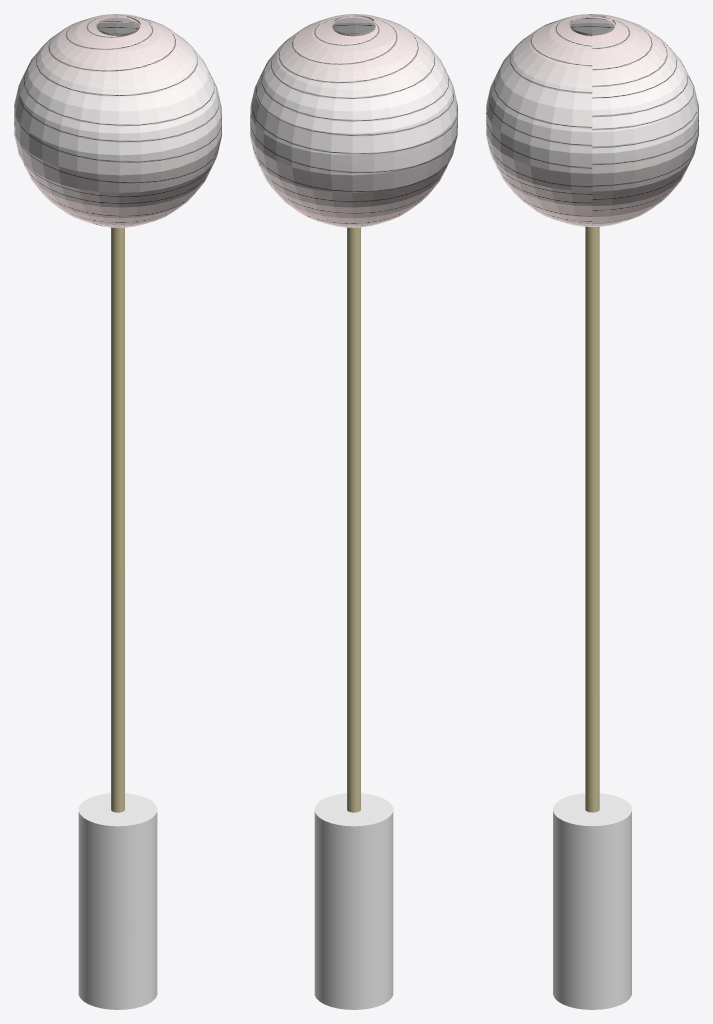
The model's file is floorlamp.glb.
3 renders of one model, left to right at view 1: azimuth 30°, elevation 25°; view 2: azimuth 150°, elevation 25°; view 3: azimuth 270°, elevation 25°, orthographic.
Visible parts, largest first — view 1: Mesh358 Group176 LT_________Noguchi_Floor_Lamp _____ ____59E, Mesh356 Group174 LT_________Noguchi_Floor_Lamp _____ ____59E, Mesh357 Group175 LT_________Noguchi_Floor_Lamp _____ ____59E; view 2: Mesh358 Group176 LT_________Noguchi_Floor_Lamp _____ ____59E, Mesh356 Group174 LT_________Noguchi_Floor_Lamp _____ ____59E, Mesh357 Group175 LT_________Noguchi_Floor_Lamp _____ ____59E; view 3: Mesh358 Group176 LT_________Noguchi_Floor_Lamp _____ ____59E, Mesh356 Group174 LT_________Noguchi_Floor_Lamp _____ ____59E, Mesh357 Group175 LT_________Noguchi_Floor_Lamp _____ ____59E.
Boxes of the visible parts, x1,y1,x2,y2 form: Mesh358 Group176 LT_________Noguchi_Floor_Lamp _____ ____59E: (14,14,221,227); Mesh356 Group174 LT_________Noguchi_Floor_Lamp _____ ____59E: (78,793,157,1009); Mesh357 Group175 LT_________Noguchi_Floor_Lamp _____ ____59E: (111,227,124,812); Mesh358 Group176 LT_________Noguchi_Floor_Lamp _____ ____59E: (250,14,457,227); Mesh356 Group174 LT_________Noguchi_Floor_Lamp _____ ____59E: (314,793,393,1009); Mesh357 Group175 LT_________Noguchi_Floor_Lamp _____ ____59E: (347,227,360,812); Mesh358 Group176 LT_________Noguchi_Floor_Lamp _____ ____59E: (486,14,698,226); Mesh356 Group174 LT_________Noguchi_Floor_Lamp _____ ____59E: (553,793,631,1009); Mesh357 Group175 LT_________Noguchi_Floor_Lamp _____ ____59E: (585,226,599,812).
Size of the model in its own units: 0.271 by 1.4 by 0.2787.
4 materials, 2 textured.
